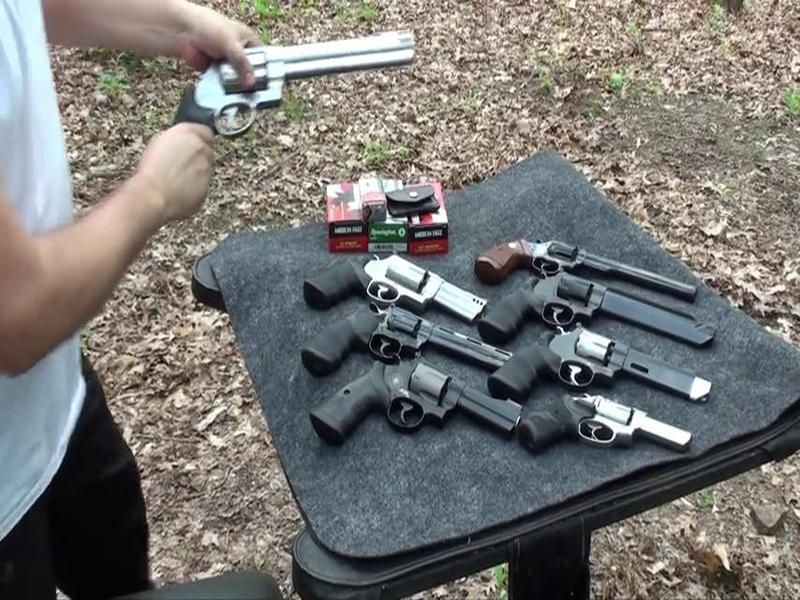Revolver: (143, 16, 427, 179)
